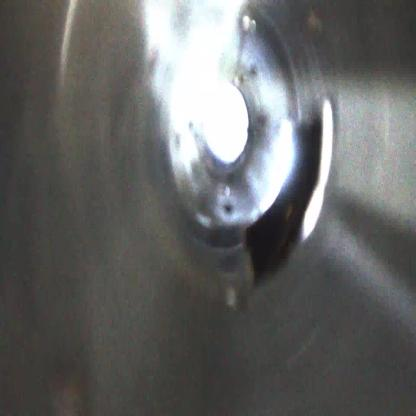Crack2: (240, 98, 338, 287)
